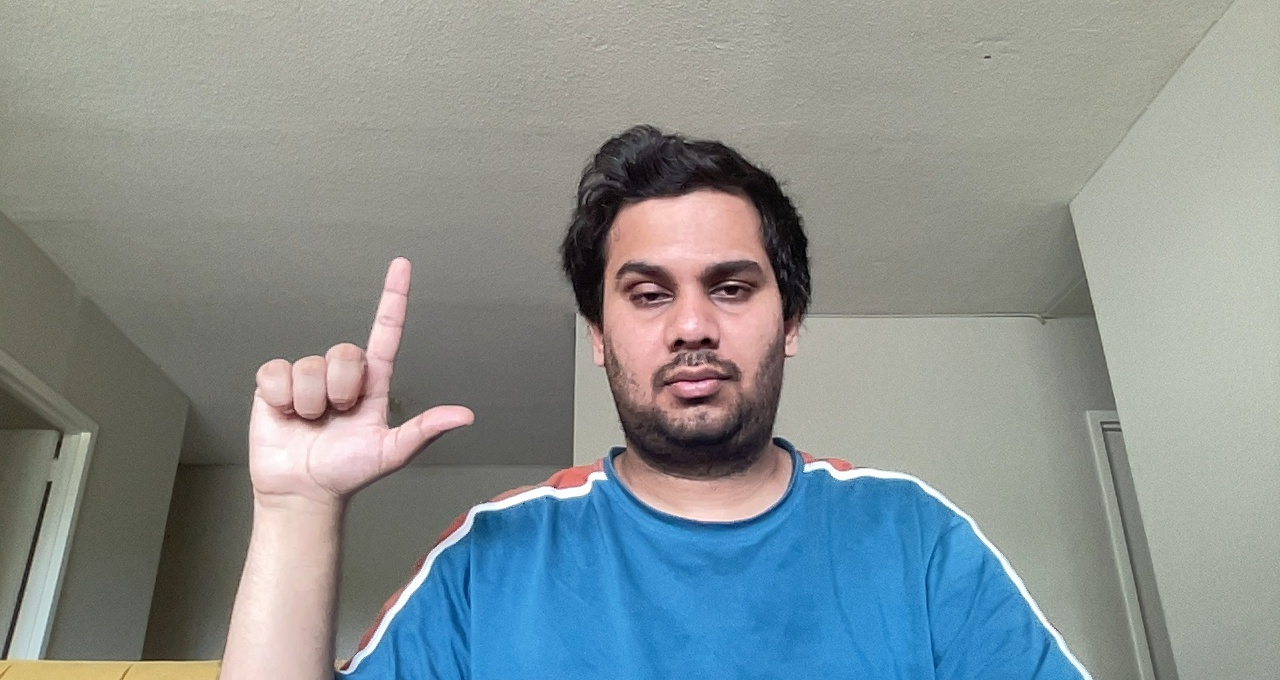L: (222, 250, 481, 493)
